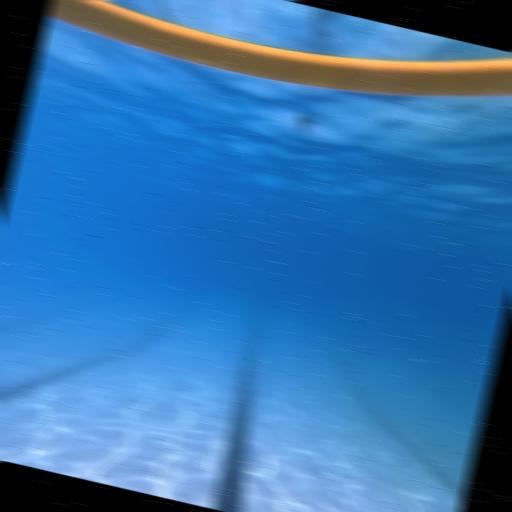upper_gate: (44, 0, 512, 144)
